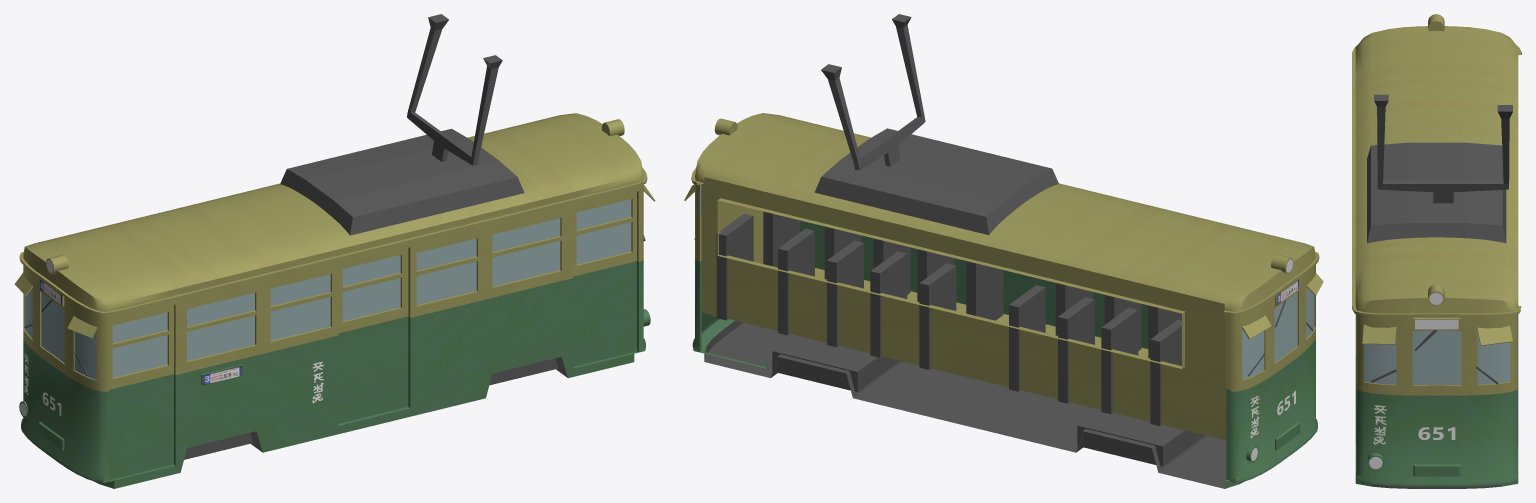
Rendered from Streetcar.fbx.
3 renders of one model, left to right at view 1: azimuth 30°, elevation 25°; view 2: azimuth 150°, elevation 25°; view 3: azimuth 270°, elevation 25°, orthographic.
Visible parts, largest first — view 1: Cylinder.016; view 2: Cylinder.016; view 3: Cylinder.016.
Boxes of the visible parts, <box> form: Cylinder.016: <box>14,14,655,488</box>; Cylinder.016: <box>684,14,1323,488</box>; Cylinder.016: <box>1352,14,1521,488</box>.
Bounding box in the file's own units: 1011 × 541 × 257.
